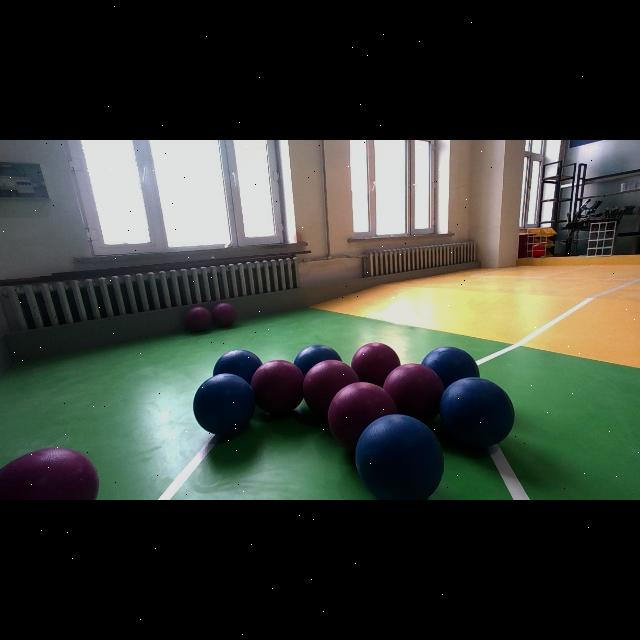B: (356, 414, 444, 500), (440, 378, 514, 448), (193, 374, 255, 436)
P: (4, 440, 94, 500), (382, 364, 443, 422), (300, 360, 362, 414), (338, 378, 390, 437), (258, 359, 302, 416), (353, 336, 392, 388), (184, 306, 212, 332), (212, 303, 236, 327)
